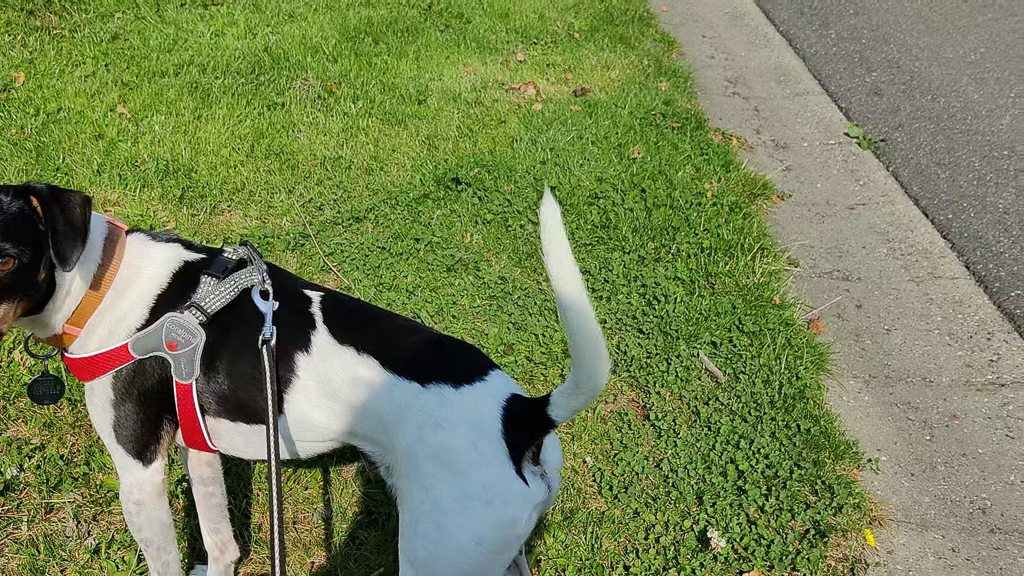Dog: (0, 171, 632, 576)
